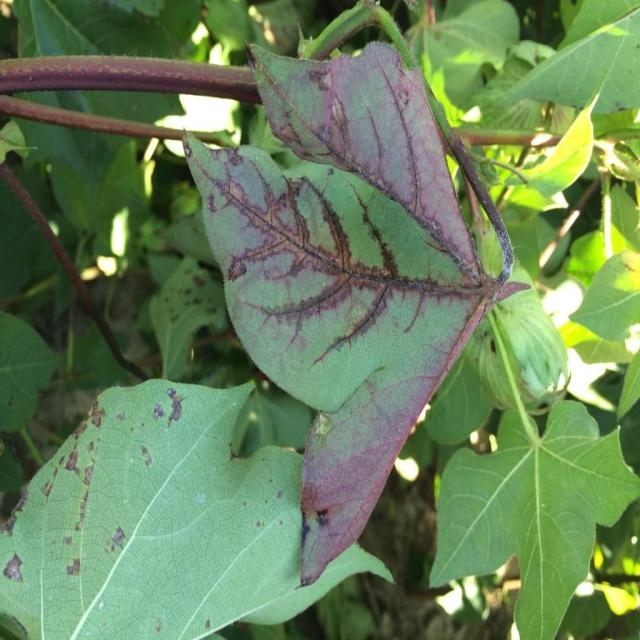Bacterial Blight: (202, 155, 483, 369)
